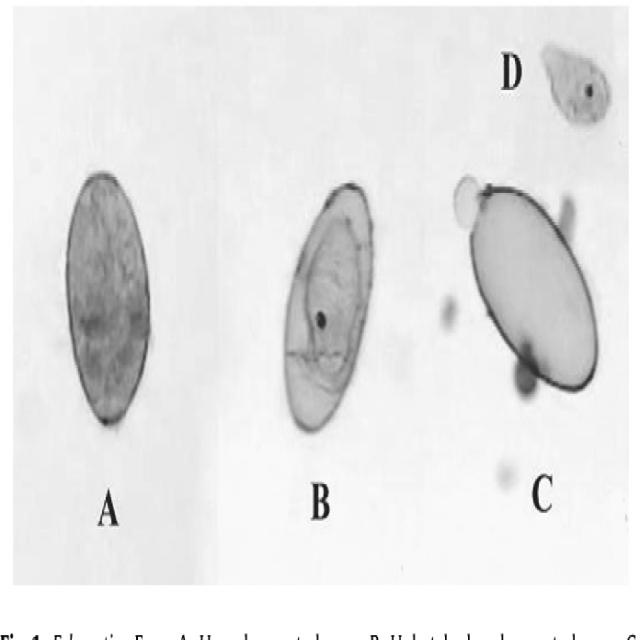Fasciola Hepatica: (454, 175, 601, 410), (271, 174, 379, 439), (57, 162, 157, 435)
